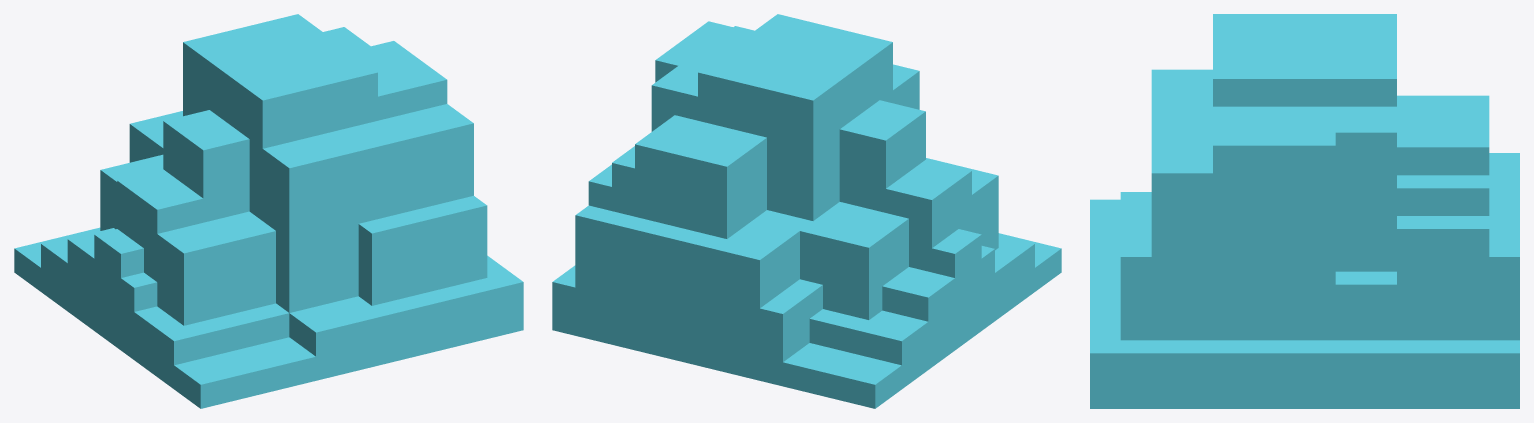
File: Rock3.dae
3 views of the same model, side by side, from view 1: azimuth 30°, elevation 25°; view 2: azimuth 150°, elevation 25°; view 3: azimuth 270°, elevation 25° (orthographic). The views are drawn at different scales.
Visible parts, largest first — view 1: Rock3; view 2: Rock3; view 3: Rock3.
Part boxes in pixels (<box>): Rock3: <box>14,14,523,408</box>; Rock3: <box>552,14,1061,408</box>; Rock3: <box>1090,14,1519,408</box>.
Bounding box in the file's own units: 14 × 10 × 14.
